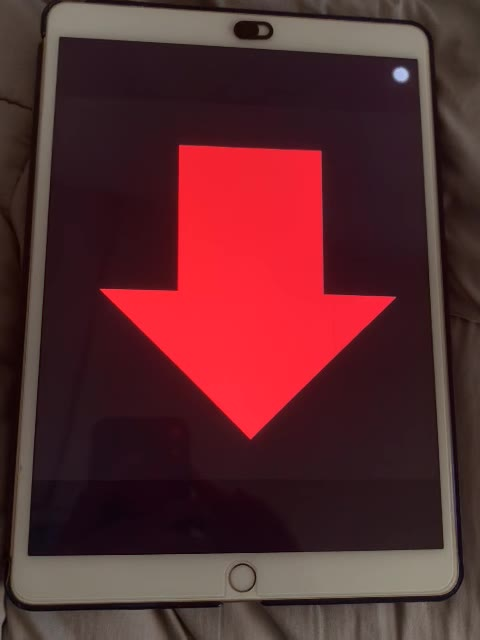down: (95, 134, 399, 446)
